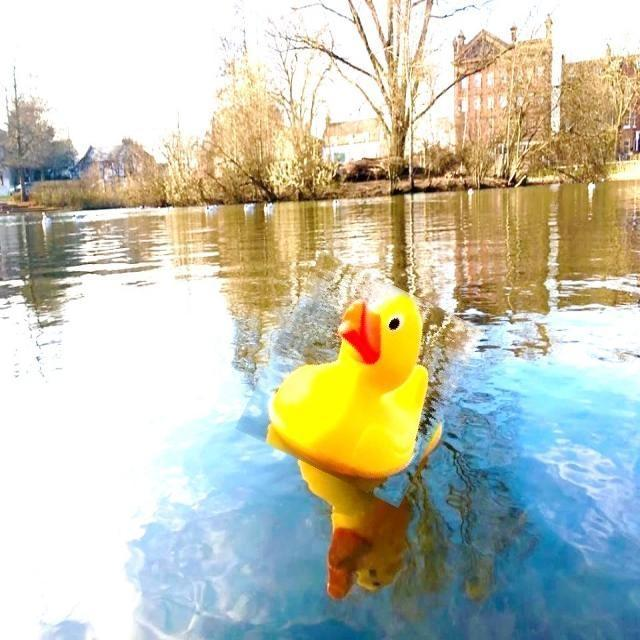rubber-duck: (266, 291, 426, 477)
